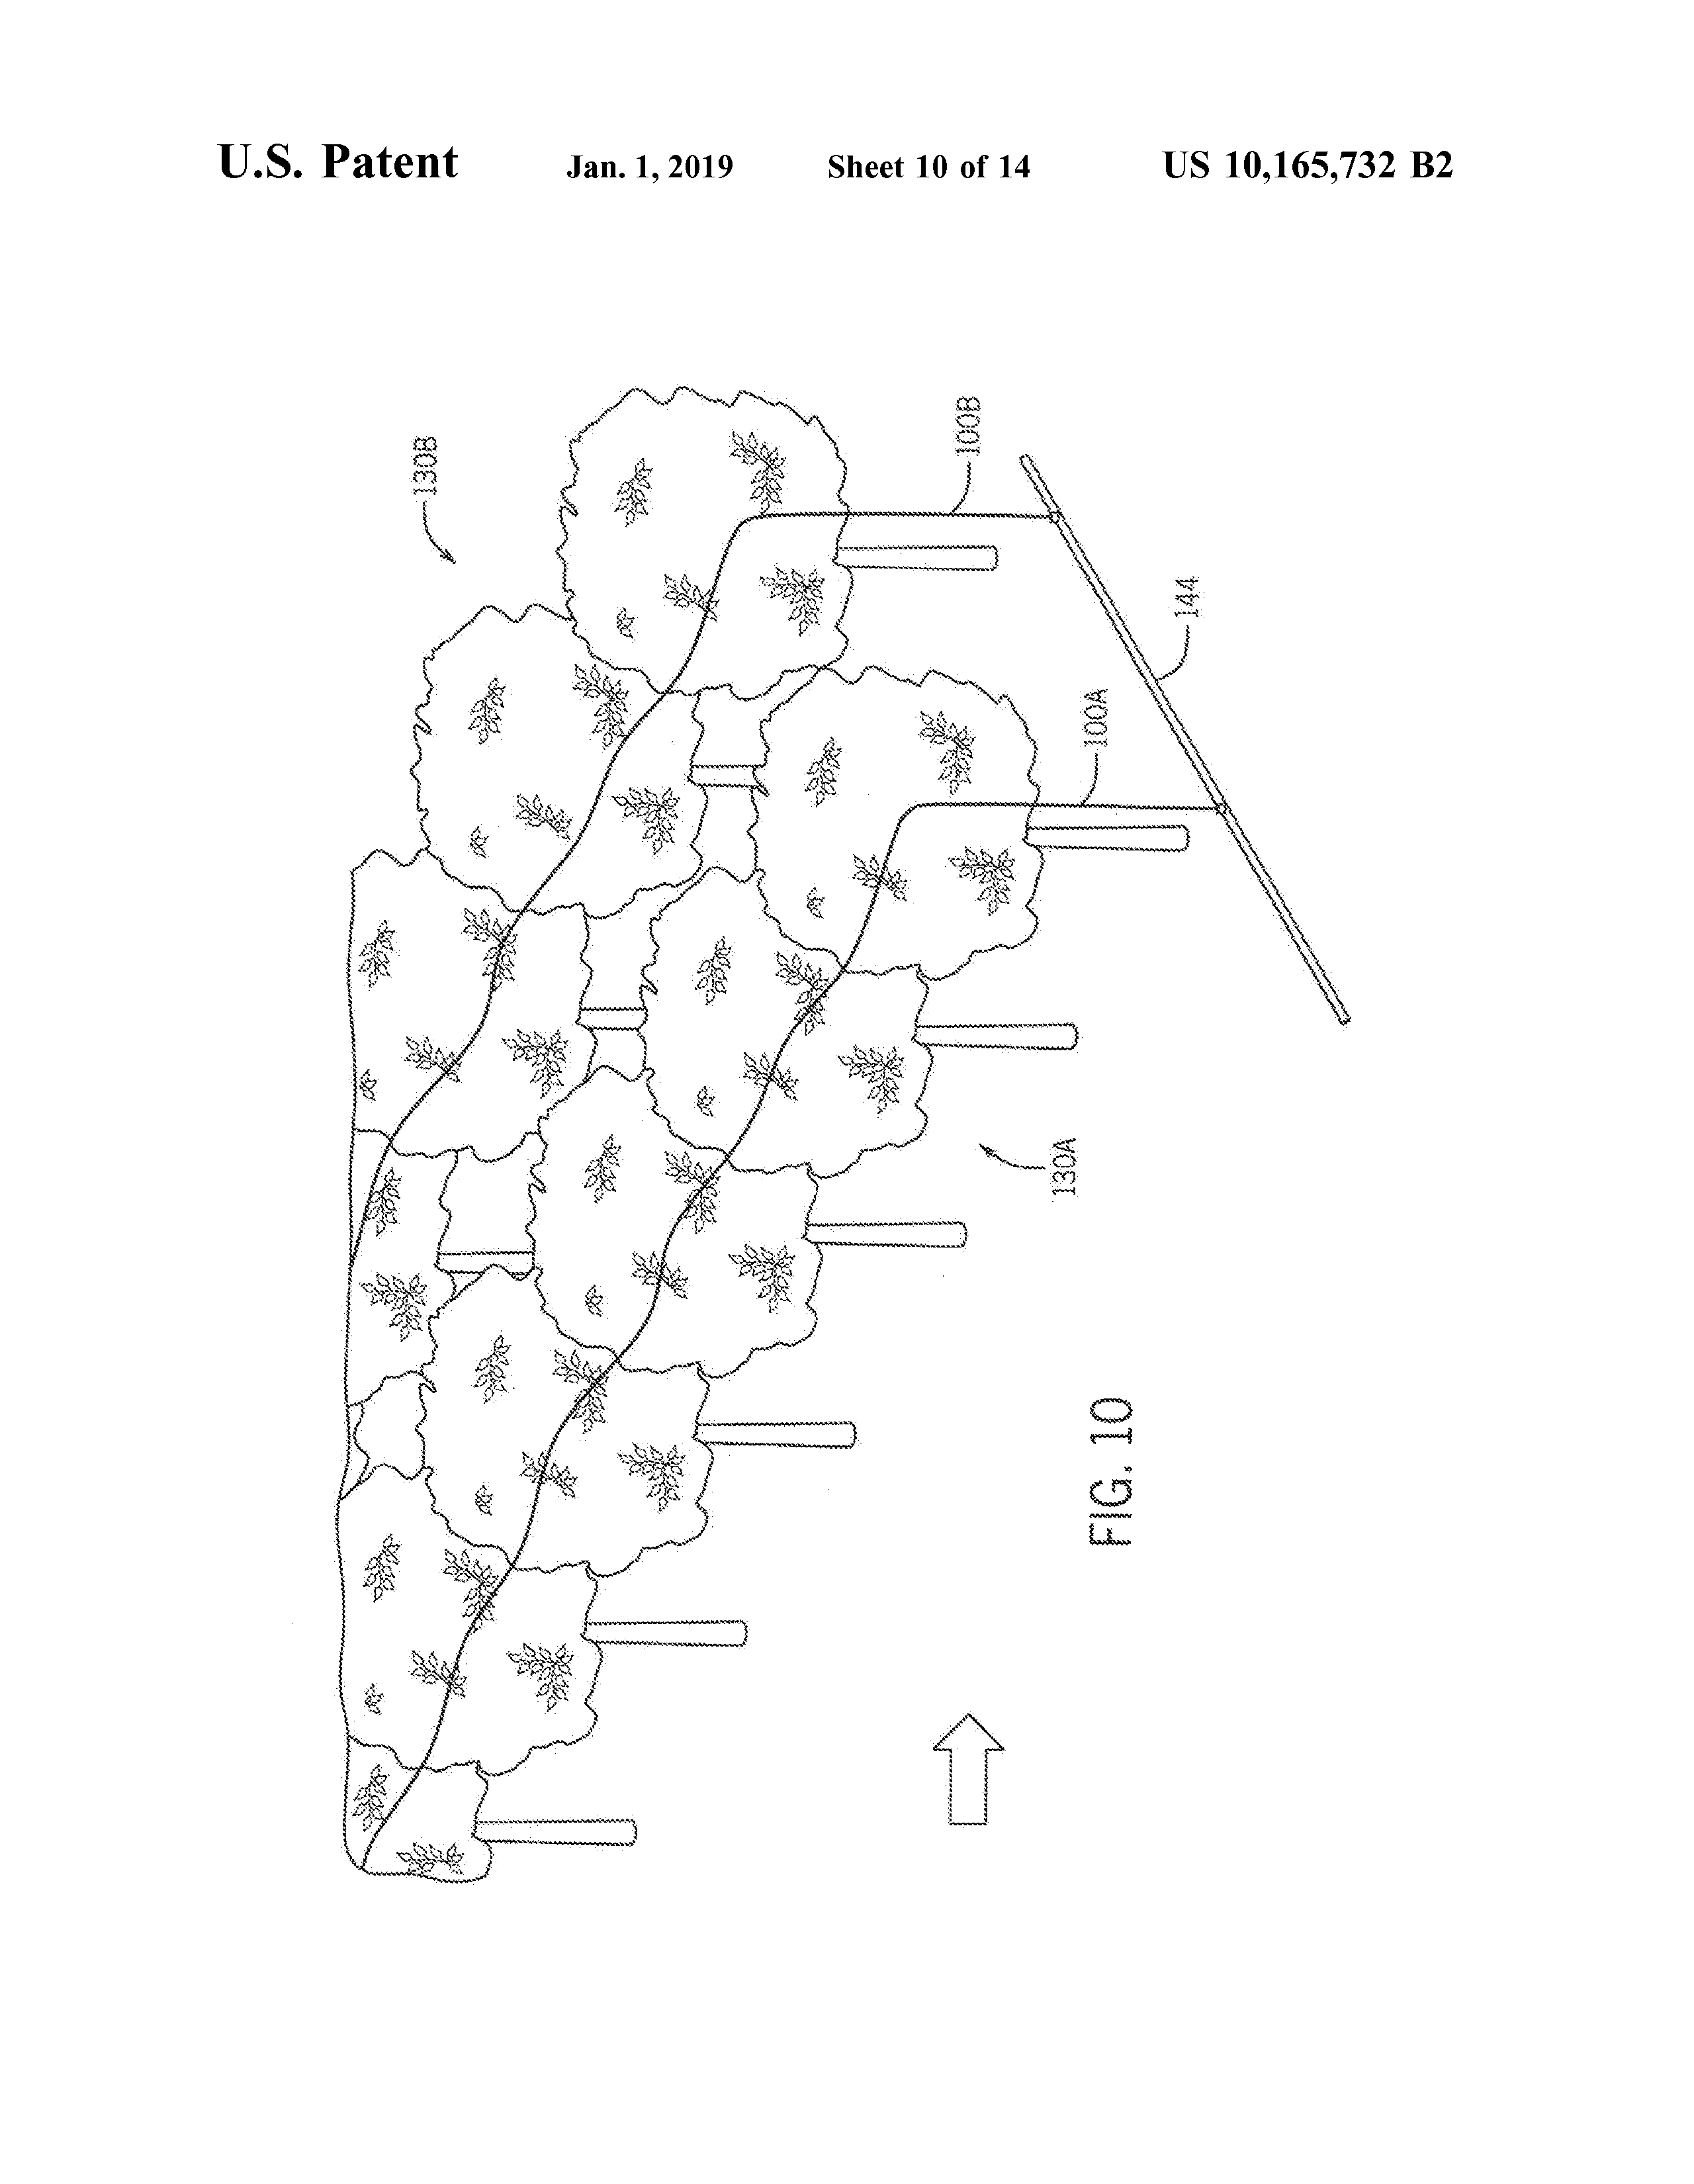patent image: (302, 363, 1400, 1954)
